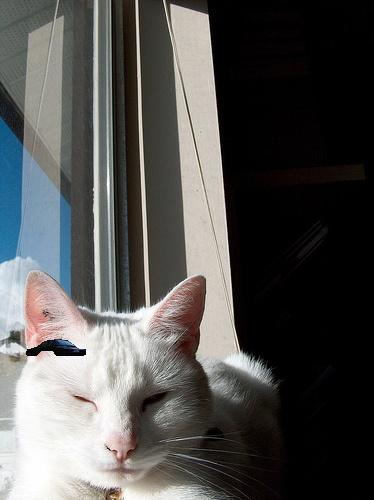tampered: (27, 340, 86, 356)
